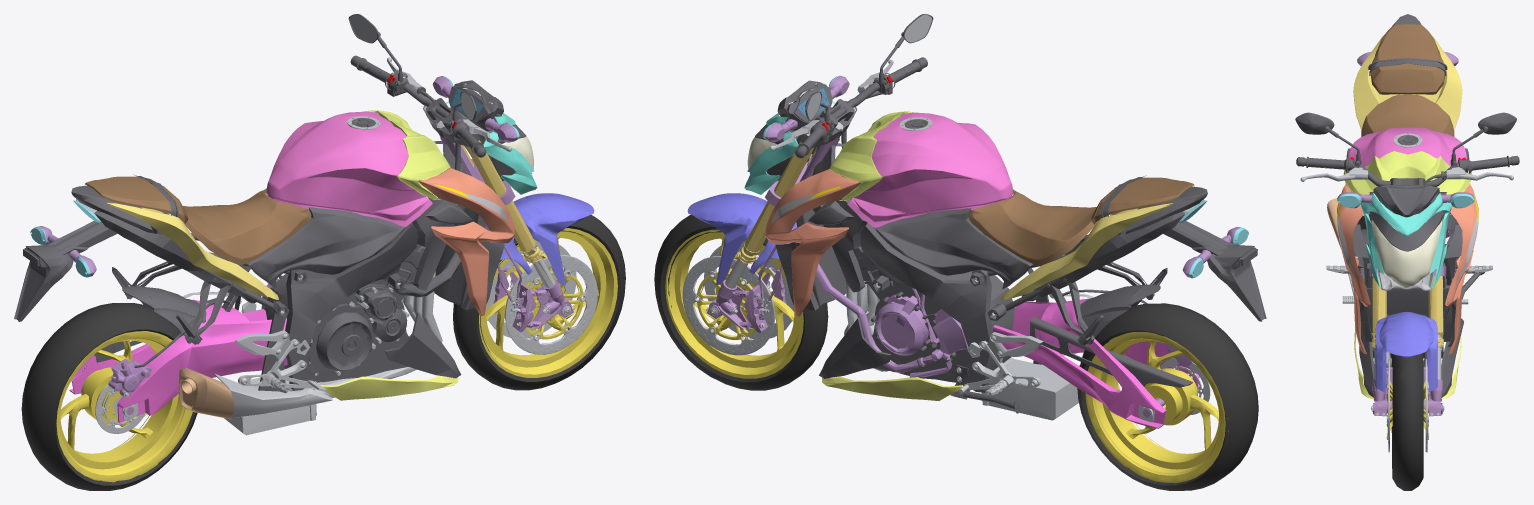
The model's file is gsx.glb.
3 renders of one model, left to right at view 1: azimuth 30°, elevation 25°; view 2: azimuth 150°, elevation 25°; view 3: azimuth 270°, elevation 25°, orthographic. The views are drawn at different scales.
Parts seen in each view (by area): view 1: hitam, logam, velg, ban, bodi_tangki, jok, swingarm, rem, bodi_cover_samping, bodi_spakbor_depan, bodi_buntut, bodi_cover_tangki (+5 smaller); view 2: hitam, velg, ban, logam, bodi_tangki, rem, jok, swingarm, bodi_cover_samping, bodi_spakbor_depan, bodi_buntut, bodi_cover_tangki (+4 smaller); view 3: hitam, jok, ban, logam, bodi_cover_samping, bodi_spakbor_depan, bodi_cover_tangki, bodi_buntut, bodi_cover_lampu, bodi_tangki, lampu, rem (+5 smaller).
Boxes of the visible parts, x1,y1,x2,y2 form: hitam: (14, 14, 526, 394); logam: (76, 14, 597, 435); velg: (56, 228, 617, 482); ban: (21, 214, 625, 490); bodi_tangki: (266, 111, 432, 226); jok: (85, 176, 311, 265); swingarm: (69, 300, 287, 423); rem: (38, 76, 573, 414); bodi_cover_samping: (419, 168, 515, 315); bodi_spakbor_depan: (485, 193, 594, 285); bodi_buntut: (105, 202, 278, 299); bodi_cover_tangki: (366, 110, 450, 199); hitam: (755, 14, 1266, 428); velg: (665, 229, 1228, 483); ban: (654, 214, 1258, 490); logam: (682, 14, 1210, 422); bodi_tangki: (847, 112, 1013, 227); rem: (706, 76, 1240, 417); jok: (968, 177, 1194, 265); swingarm: (992, 298, 1199, 428); bodi_cover_samping: (764, 169, 860, 316); bodi_spakbor_depan: (687, 193, 797, 284); bodi_buntut: (1001, 203, 1173, 300); bodi_cover_tangki: (829, 111, 913, 200); hitam: (1295, 14, 1519, 397); jok: (1361, 24, 1454, 136); ban: (1391, 353, 1423, 490); logam: (1300, 133, 1513, 452); bodi_cover_samping: (1337, 184, 1478, 354); bodi_spakbor_depan: (1375, 311, 1437, 391); bodi_cover_tangki: (1343, 151, 1471, 194); bodi_buntut: (1353, 31, 1462, 130); bodi_cover_lampu: (1360, 193, 1452, 288); bodi_tangki: (1349, 127, 1466, 166); lampu: (1371, 220, 1442, 286); rem: (1337, 52, 1474, 416).
Size of the model in its own units: 2.08 by 1.18 by 0.7586.
